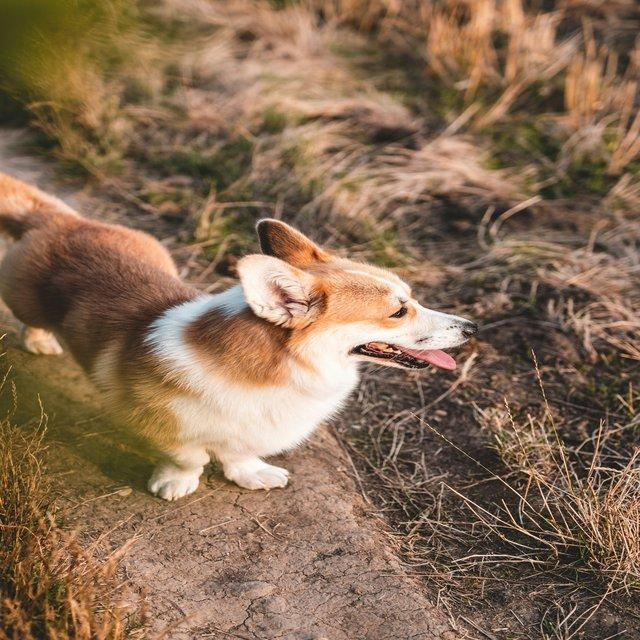corgi: (0, 169, 478, 502)
